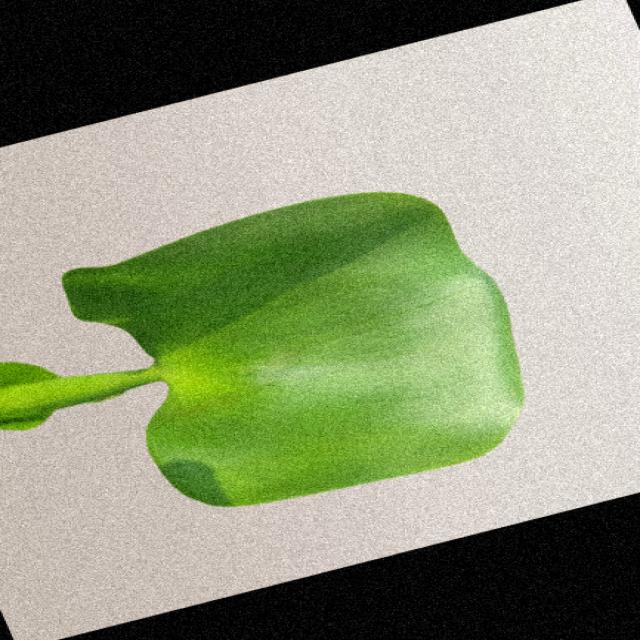daun sehat: (2, 193, 523, 506)
